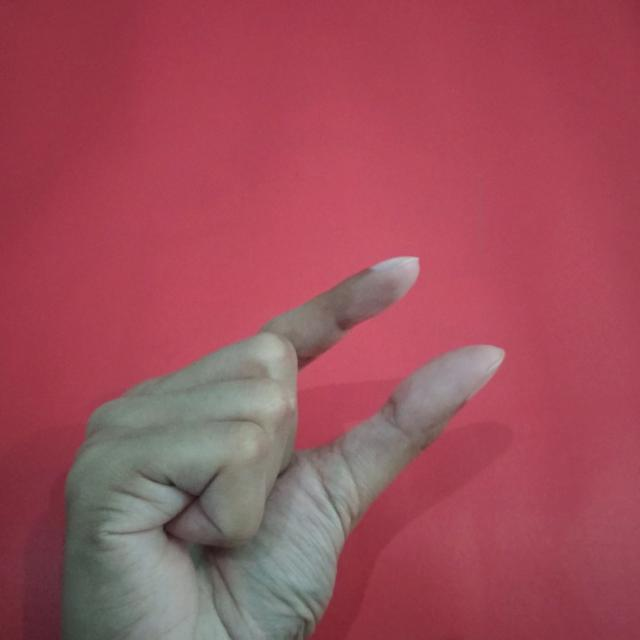G: (58, 251, 511, 640)
